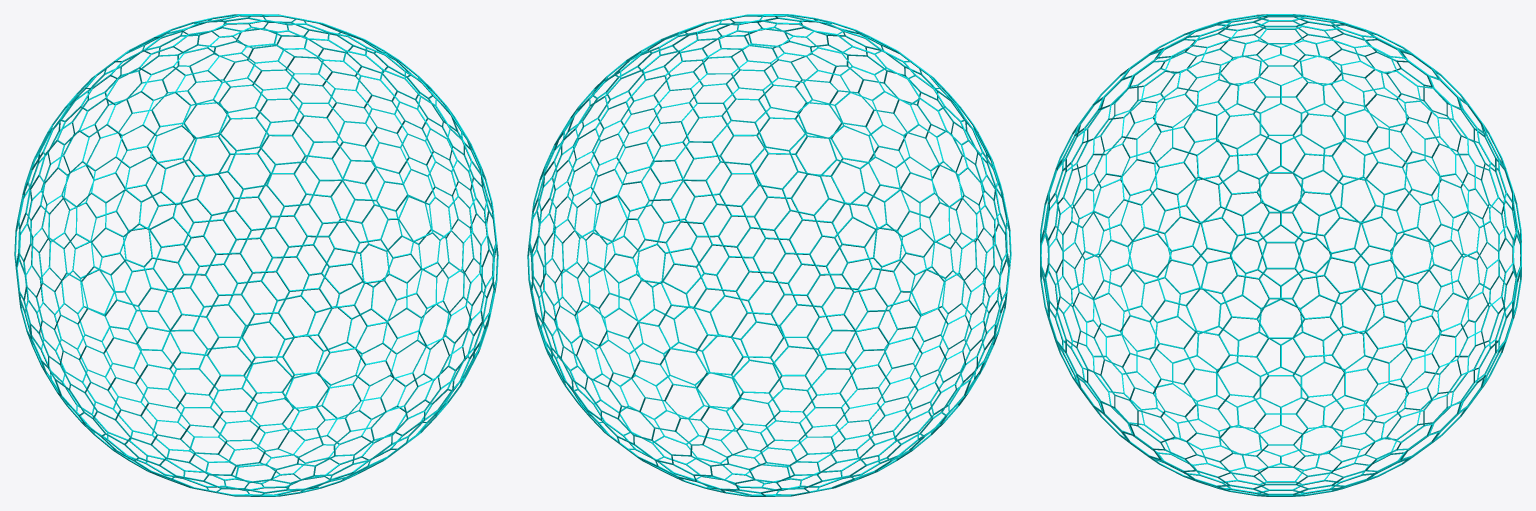
3 views of the same model, side by side, from view 1: azimuth 30°, elevation 25°; view 2: azimuth 150°, elevation 25°; view 3: azimuth 270°, elevation 25° (orthographic).
Visible parts, largest first — view 1: Frame; view 2: Frame; view 3: Frame.
Boxes of the visible parts, x1=… form: Frame: x1=14, y1=14, x2=498, y2=496; Frame: x1=527, y1=14, x2=1011, y2=496; Frame: x1=1040, y1=14, x2=1521, y2=496.
Bounding box in the file's own units: 198 × 198 × 198.
